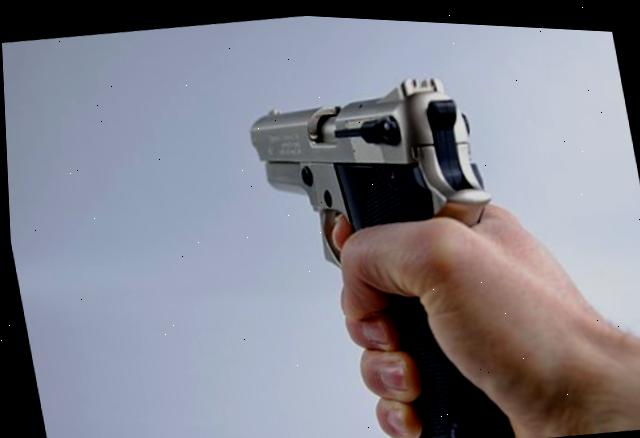pistol: (242, 60, 532, 438)
